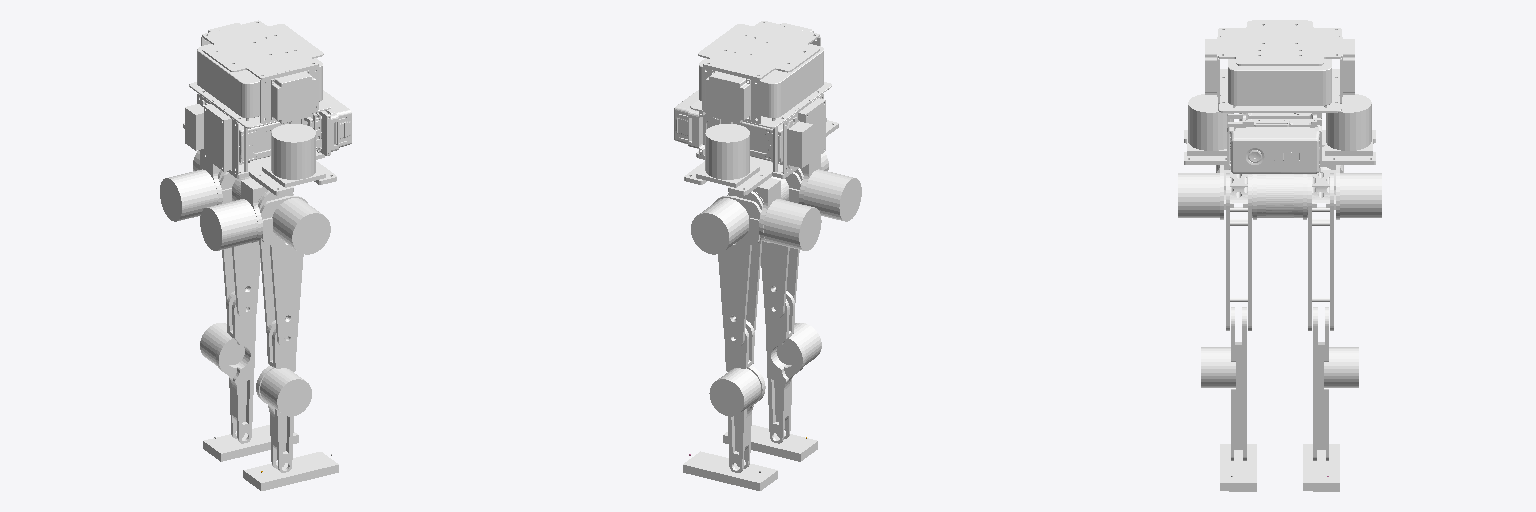
--- Render facts (derived) ---
3 views of the same robot in one strip: view 1: azimuth 30°, elevation 25°; view 2: azimuth 150°, elevation 25°; view 3: azimuth 270°, elevation 25° (orthographic).
Robot: hunter — 16 links, 15 joints (10 revolute, 5 fixed); root link base_link; default pose: every joint at zero.
Visible links, largest first — view 1: base_link, leg_l4_link, leg_r4_link, leg_r3_link, leg_r1_link, leg_r2_link, leg_l2_link, leg_l3_link, leg_r5_link, leg_l5_link; view 2: base_link, leg_r4_link, leg_l4_link, leg_l3_link, leg_l1_link, leg_l2_link, leg_r2_link, leg_r3_link, leg_l5_link, leg_r5_link; view 3: base_link, leg_r4_link, leg_l4_link, leg_l1_link, leg_r1_link, leg_l3_link, leg_r3_link, leg_r5_link, leg_l5_link.
Link boxes in pixels (x1,y1,x2,y2): base_link: (183, 20, 351, 195); leg_l4_link: (200, 291, 256, 443); leg_r4_link: (256, 320, 311, 472); leg_r3_link: (236, 176, 303, 348); leg_r1_link: (259, 192, 330, 254); leg_r2_link: (200, 178, 268, 250); leg_l2_link: (160, 152, 222, 221); leg_l3_link: (218, 162, 260, 318); leg_r5_link: (243, 452, 338, 490); leg_l5_link: (203, 425, 298, 461); base_link: (674, 21, 838, 195); leg_r4_link: (765, 291, 821, 443); leg_l4_link: (709, 320, 765, 472); leg_l3_link: (718, 177, 785, 348); leg_l1_link: (691, 192, 761, 254); leg_l2_link: (753, 178, 821, 250); leg_r2_link: (799, 155, 861, 221); leg_r3_link: (761, 162, 803, 318); leg_l5_link: (683, 451, 777, 490); leg_r5_link: (723, 425, 817, 461); base_link: (1184, 20, 1375, 173); leg_r4_link: (1201, 307, 1246, 460); leg_l4_link: (1313, 307, 1358, 460); leg_l1_link: (1303, 165, 1381, 219); leg_r1_link: (1178, 165, 1256, 219); leg_l3_link: (1266, 173, 1333, 330); leg_r3_link: (1226, 173, 1293, 330); leg_r5_link: (1220, 444, 1256, 491); leg_l5_link: (1303, 444, 1339, 491).
Bounding box of the posed robot: 0.1781 × 0.2222 × 0.51 m (x, y, z).
Meshes: 9 distinct files referenced, 9 mesh visuals loaded (9 binary STL).

robot.urdf — hunter:
<?xml version="1.0" encoding="utf-8"?>
<!--
This URDF was automatically created by SolidWorks to URDF Exporter! Originally created by Stephen Brawner ([email redacted])
Commit Version: 1.6.0-4-g7f85cfe  Build Version: 1.6.7995.38578
For more information, please see http://wiki.ros.org/sw_urdf_exporter
-->
<robot name="hunter">
	<mujoco>
    <compiler 
    meshdir="package://legged_hunter_description/meshes_pi/" 
    balanceinertia="true" 
    discardvisual="false" />
    </mujoco>


	<gazebo>
    <plugin name="gazebo_ros_control" filename="libhunter_bipedal_hw_sim.so">
      <robotNamespace>/</robotNamespace>
      <robotParam>legged_robot_description</robotParam>
      <robotSimType>legged_gazebo/LeggedHWSim</robotSimType>
    </plugin>
  	</gazebo>

  	<gazebo>
    <plugin filename="libgazebo_ros_p3d.so" name="p3d_base_controller">
      <alwaysOn>true</alwaysOn>
      <updateRate>500.0</updateRate>
      <bodyName>base_link</bodyName>
      <topicName>ground_truth/state</topicName>
      <gaussianNoise>0</gaussianNoise>
      <frameName>world</frameName>
      <xyzOffsets>0 0 0</xyzOffsets>
      <rpyOffsets>0 0 0</rpyOffsets>
    </plugin>
  	</gazebo>

	<link name="base_link">
		<inertial>
			<origin xyz="0.0019276 -4.6272E-05 0.062874" rpy="0 0 0" />
			<mass value="1.6042619" />
			<inertia ixx="0.0096904" ixy="-0.0001519" ixz="0.0004705" iyy="0.0098326" iyz="-0.0000665" izz="0.0043652" />
		</inertial>
		<visual>
			<origin xyz="0 0 0" rpy="0 0 0" />
			<geometry>
				<mesh filename="package://legged_hunter_description/meshes_pi/base_link.STL" />
			</geometry>
			<material name="">
				<color rgba="1 1 1 1" />
			</material>
		</visual>
		<collision>
			<!-- <origin xyz="0 0 0" rpy="0 0 0" />
			<geometry>
				<mesh filename="package://legged_hunter_description/meshes_pi/base_link.STL" />
			</geometry> -->
			<origin rpy="0 0 0" xyz="0 0 0.045" />
			<geometry>
				<box size="0.1 0.1 0.09" />
			</geometry>
		</collision>
	</link>

	  <joint name="imu_joint" type="fixed">
    <origin rpy="0. 0. 0." xyz="0. 0. 0"/>
    <parent link="base_link"/>
    <child link="imu_link"/>
  </joint>
  <!-- Imu link -->
  <link name="imu_link">
    <inertial>
      <mass value="0.01"/>
      <origin rpy="0 0 0" xyz="0 0 0"/>
      <inertia ixx="0.000001" ixy="0" ixz="0" iyy="0.000001" iyz="0" izz="0.000001"/>
    </inertial>
    <visual>
      <origin rpy="0 0 0" xyz="0 0 0"/>
      <geometry>
        <box size="0.015 0.015 0.004"/>
      </geometry>
    </visual>
    <material name="orange">
      <color rgba="255 108 10 255"/>
    </material>
  </link>
	  <gazebo reference="imu_joint">
    <disableFixedJointLumping>true</disableFixedJointLumping>
  </gazebo>




  <!-- ************************************************************ -->
  <!-- ************************ right Leg ************************** -->
  <!-- ************************************************************ -->

	<!-- yaw L2 -->
	<joint name="leg_r2_joint" type="revolute">
		<origin xyz="0 -0.045 0" rpy="3.1416 0 -1.5708" />
		<parent link="base_link" />
		<child link="leg_r2_link" />
		<axis xyz="0 0 -1" />
		<limit lower="-1.0" upper="1.0" effort="15" velocity="20" />
	</joint>
	<link name="leg_r2_link">
		<inertial>
			<origin xyz="6.4093E-09 0.056047 0.046574" rpy="0 0 0" />
			<mass value="0.34" />
			<inertia ixx="0.0003820" ixy="0.0000000" ixz="0.0000000"
									 iyy="0.0001983" iyz="0.0001824" 
									 				 izz="0.0001988" />
		</inertial>
		<visual>
			<origin xyz="0 0 0" rpy="0 0 0" />
			<geometry>
				<mesh filename="package://legged_hunter_description/meshes_pi/leg_r2_link.STL" />
			</geometry>
			<material name="">
				<color rgba="1 1 1 1" />
			</material>
		</visual>
		<collision>
			<!-- <origin xyz="0 0 0" rpy="0 0 0" />
			<geometry>
				<mesh filename="package://legged_hunter_description/meshes_pi/right_hip_yaw_link.STL" />
			</geometry> -->
			<origin xyz="0 0 0" rpy="0 0 0" />
			<geometry>
				<box size="0.0001 0.0001 0.0001" />
			</geometry>
		</collision>
	</link>
	

	<!-- roll L1 -->
	<joint name="leg_r1_joint" type="revolute">
		<origin xyz="0 0 0.054" rpy="1.5708 0 0" />
		<parent link="leg_r2_link" />
		<child link="leg_r1_link" />
		<axis xyz="0 0 1" />
		<limit lower="-1.0" upper="1.0" effort="15" velocity="20" />
	</joint>

	<link name="leg_r1_link">
		<inertial>
			<origin xyz="0.030907 0.00085876 -0.0037549" rpy="0 0 0" />
			<mass value="0.367" />
			<inertia ixx="0.0001795" ixy="0.0000000" ixz="0.0000000" 
									 iyy="0.0001796" iyz="-0.0000226" 
									                 izz="0.0000440" />
		</inertial>
		<visual>
			<origin xyz="0 0 0" rpy="0 0 0" />
			<geometry>
				<mesh filename="package://legged_hunter_description/meshes_pi/leg_r1_link.STL" />
			</geometry>
			<material name="">
				<color rgba="1 1 1 1" />
			</material>
		</visual>
		<collision>
			<!-- <origin xyz="0 0 0" rpy="0 0 0" />
			<geometry>
				<mesh filename="package://legged_hunter_description/meshes_pi/right_hip_roll_link.STL" />
			</geometry> -->
			<origin rpy="0 0 0" xyz="0 0 0" />
			<geometry>
				<box size="0.0001 0.0001 0.0001" />
			</geometry>
		</collision>
	</link>

	


	<!-- pitch l3 -->
	<joint name="leg_r3_joint" type="revolute">
		<origin xyz="0 0 0.002" rpy="-1.5708 0 1.5708" />
		<parent link="leg_r1_link" />
		<child link="leg_r3_link" />
		<axis xyz="0 0 1" />
		<limit lower="-1.15" upper="0.7854" effort="15" velocity="21"  />
	</joint>
	<link name="leg_r3_link">
		<inertial>
			<origin xyz="0.022326 1.3878E-17 0.023954" rpy="0 0 0" />
			<mass value="0.476" />
			<inertia ixx="0.0000351" ixy="0.0000000" ixz="-0.0000193" 
									  iyy="0.0023912" iyz="0.0000000" 
									  				   izz="0.0023887" />
		</inertial>
		<visual>
			<origin xyz="0 0 0" rpy="0 0 0" />
			<geometry>
				<mesh filename="package://legged_hunter_description/meshes_pi/leg_r3_link.STL" />
			</geometry>
			<material name="">
				<color rgba="1 1 1 1" />
			</material>
		</visual>
		<collision>
			<!-- <origin xyz="0 0 0" rpy="0 0 0" />
			<geometry>
				<mesh filename="package://legged_hunter_description/meshes_pi/right_calf_link.STL" />
			</geometry> -->
			<origin xyz="0.05 0 0.0" rpy="0 1.57 0" />
            <geometry>
                <box size="0.01 0.01 0.09" />
            </geometry>
		</collision>
	</link>

	
	<!-- knee l4 -->
	<joint name="leg_r4_joint" type="revolute">
		<origin xyz="0.15 0 0" rpy="-3.1416 0 0" />
		<parent link="leg_r3_link" />
		<child link="leg_r4_link" />
		<axis xyz="0 0 1" />
		<limit lower="-1.5" upper="0.0" effort="15" velocity="20" />
	</joint>

	<link name="leg_r4_link">
		<inertial>
			<origin xyz="0.063722 -0.0045962 0.012568" rpy="0 0 0" />
			<mass value="0.361" />
			<inertia ixx="0.0001823" ixy="-0.0001000" ixz="0.0002734" 
									  iyy="0.0019799" iyz="-0.0000342" 
									  				  izz="0.0018988" />
		</inertial>
		<visual>
			<origin xyz="0 0 0" rpy="0 0 0" />
			<geometry>
				<mesh filename="package://legged_hunter_description/meshes_pi/leg_r4_link.STL" />
			</geometry>
			<material name="">
				<color rgba="1 1 1 1" />
			</material>
		</visual>
		<collision>
			<!-- <origin xyz="0 0 0" rpy="0 0 0" />
			<geometry>
				<mesh filename="package://legged_hunter_description/meshes_pi/right_thigh_Link.STL" />
			</geometry> -->
			<origin xyz="0.05 0.0 -0.0" rpy="0 1.57 0" />
			<geometry>
				<box size="0.01 0.01 0.09" />
			</geometry>
		</collision>
	</link>

	
	<!-- ankle L5 -->
	<joint name="leg_r5_joint" type="revolute">
		<origin xyz="0.16 0 0" rpy="3.1416 0 1.5708" />
		<parent link="leg_r4_link" />
		<child link="leg_r5_link" />
		<axis xyz="0 0 1" />
		<limit lower="-0.75" upper="0.75" effort="15" velocity="20" />
	</joint>
	<link name="leg_r5_link">
		<inertial>
			<origin xyz="0.0018242 0.014051 -1.6651E-08" rpy="0 0 0" />
			<mass value="0.089" />
			<inertia ixx="0.0000189" ixy="0.0000034" ixz="0.0000000" 
									 iyy="0.0000420" iyz="0.0000000" 
									  				  izz="0.0000580" />
		</inertial>
		<visual>

			<origin xyz="0.012 0.012 0.0" rpy="1.57 0 0" />
			<!-- <origin xyz="0.0 0.0 -0.02" rpy="0 1.57079 0" /> -->
            <geometry>
                <box size="0.1 0.04 0.01" />
				
				<!-- <mesh filename="package://legged_hunter_description/meshes_pi/leg_r5_link.STL" /> -->
				<!-- <cylinder length="0.1" radius="0.005"/> -->
            </geometry>
			<material name="">
				<color rgba="1 1 1 1" />
			</material>
		</visual>
		<collision>
			<origin xyz="0.012 0.012 0.0" rpy="1.57 0 0" />
			<!-- <origin xyz="0.0 0.0 -0.02" rpy="0 1.57079 0" /> -->
            <geometry>
                <box size="0.1 0.04 0.01" />
				<!-- <cylinder length="0.1" radius="0.005"/> -->
            </geometry>
		</collision>
	</link>

    <!-- ************* fixed *************** -->

	<joint name="leg_r5_fixed_1" type="fixed">
    <origin xyz="0.06 0 -0.007" rpy="0 0 0" />
    <parent link="leg_r5_link" />
    <child link="leg_r_f1_link" />
  </joint>
  <link name="leg_r_f1_link">
    <inertial>
      <mass value="0.01" />
      <inertia ixx="0.000001" ixy="0" ixz="0" iyy="0.000001" iyz="0" izz="0.000001" />
    </inertial>
    <visual>
      <origin rpy="0 0 0" xyz="0 0 0"/>
      <geometry>
        <sphere radius="0.001"/>
      </geometry>
    </visual>
    <collision>
      <origin rpy="0 0 0" xyz="0 0 0"/>
      <geometry>
        <sphere radius="0.001"/>
      </geometry>
    </collision>
  </link>

  <joint name="leg_r5_fixed_2" type="fixed">
    <origin xyz="-0.030 0 -0.007" rpy="0 0 0" />
    <parent link="leg_r5_link" />
    <child link="leg_r_f2_link" />
  </joint>
  <link name="leg_r_f2_link">
    <inertial>
      <mass value="0.01" />
      <inertia ixx="0.000001" ixy="0" ixz="0" iyy="0.000001" iyz="0" izz="0.000001" />
    </inertial>
    <visual>
      <origin rpy="0 0 0" xyz="0 0 0"/>
      <geometry>
        <sphere radius="0.001"/>
      </geometry>
    </visual>
    <collision>
      <origin rpy="0 0 0" xyz="0 0 0"/>
      <geometry>
        <sphere radius="0.001"/>
      </geometry>
    </collision>
  </link>
    <!-- ************* gazebo *************** -->

  <gazebo reference="leg_r2_link">
    <mu1>0.6</mu1>
    <mu2>0.6</mu2>
    <self_collide>1</self_collide>
  </gazebo>
  <gazebo reference="leg_r1_link">
    <mu1>0.6</mu1>
    <mu2>0.6</mu2>
    <self_collide>1</self_collide>
  </gazebo>
  <gazebo reference="leg_r3_link">
    <mu1>0.6</mu1>
    <mu2>0.6</mu2>
    <self_collide>1</self_collide>
  </gazebo>
  <gazebo reference="leg_r4_link">
    <mu1>0.6</mu1>
    <mu2>0.6</mu2>
    <self_collide>1</self_collide>
  </gazebo>
  <gazebo reference="leg_r5_link">
    <mu1>1.5</mu1>
    <mu2>1.5</mu2>
    <self_collide>1</self_collide>
    <kp value="1000000.0"/>
    <kd value="100.0"/>
    <maxVel>1.0</maxVel>
    <minDepth>0.00</minDepth>
  </gazebo>
  <gazebo reference="leg_r_f1_link">
    <mu1>1.5</mu1>
    <mu2>1.5</mu2>
    <self_collide>1</self_collide>
    <kp value="1000000.0"/>
    <kd value="100.0"/>
    <maxVel>1.0</maxVel>
    <minDepth>0.00</minDepth>
  </gazebo>
  <gazebo reference="leg_r_f2_link">
    <mu1>1.5</mu1>
    <mu2>1.5</mu2>
    <self_collide>1</self_collide>
    <kp value="1000000.0"/>
    <kd value="100.0"/>
    <maxVel>1.0</maxVel>
    <minDepth>0.00</minDepth>
  </gazebo>

    <!-- ************* transmission *************** -->


  <transmission name="leg_r1_tran">
    <type>transmission_interface/SimpleTransmission</type>
    <joint name="leg_r1_joint">
      <hardwareInterface>hardware_interface/EffortJointInterface</hardwareInterface>
    </joint>
    <actuator name="leg_r1_motor">
      <hardwareInterface>hardware_interface/EffortJointInterface</hardwareInterface>
      <mechanicalReduction>1</mechanicalReduction>
      	  <maxVelocity>1.484</maxVelocity><!-- 85rpm -->
	<maxEffort>36.0</maxEffort><!-- 36Nm -->
    </actuator>
  </transmission>

  <transmission name="leg_r2_tran">
    <type>transmission_interface/SimpleTransmission</type>
    <joint name="leg_r2_joint">
      <hardwareInterface>hardware_interface/EffortJointInterface</hardwareInterface>
    </joint>
    <actuator name="leg_r2_motor">
      <hardwareInterface>hardware_interface/EffortJointInterface</hardwareInterface>
      <mechanicalReduction>1</mechanicalReduction>
      	  <maxVelocity>2.6545</maxVelocity><!-- 160rpm -->
	  <maxEffort>94.0</maxEffort><!-- 94Nm -->
    </actuator>
  </transmission>

  <transmission name="leg_r3_tran">
    <type>transmission_interface/SimpleTransmission</type>
    <joint name="leg_r3_joint">
      <hardwareInterface>hardware_interface/EffortJointInterface</hardwareInterface>
    </joint>
    <actuator name="leg_r3_motor">
      <hardwareInterface>hardware_interface/EffortJointInterface</hardwareInterface>
      <mechanicalReduction>1</mechanicalReduction>
      	  <maxVelocity>2.6545</maxVelocity><!-- 160rpm -->
	  <maxEffort>94.0</maxEffort><!-- 94Nm -->
    </actuator>
  </transmission>

  <transmission name="leg_r4_tran">
    <type>transmission_interface/SimpleTransmission</type>
    <joint name="leg_r4_joint">
      <hardwareInterface>hardware_interface/EffortJointInterface</hardwareInterface>
    </joint>
    <actuator name="leg_r4_motor">
      <hardwareInterface>hardware_interface/EffortJointInterface</hardwareInterface>
      <mechanicalReduction>1</mechanicalReduction>
      	  <maxVelocity>1.484</maxVelocity><!-- 85rpm -->
	<maxEffort>36.0</maxEffort><!-- 36Nm -->
    </actuator>
  </transmission>

  <transmission name="leg_r5_tran">
    <type>transmission_interface/SimpleTransmission</type>
    <joint name="leg_r5_joint">
      <hardwareInterface>hardware_interface/EffortJointInterface</hardwareInterface>
    </joint>
    <actuator name="leg_r5_motor">
      <hardwareInterface>hardware_interface/EffortJointInterface</hardwareInterface>
      <mechanicalReduction>1</mechanicalReduction>
    </actuator>
  </transmission>


 <!-- ************************************************************ -->
  <!-- ************************ Left Leg ************************** -->
  <!-- ************************************************************ -->

  <!-- ************* part 1 *************** -->

	<joint name="leg_l2_joint" type="revolute">
		<origin xyz="0 0.045 0" rpy="-3.1416 0 -3.1416" />
		<parent link="base_link" />
		<child link="leg_l2_link" />
		<axis xyz="0 0 1" />
		<limit lower="-1.0" upper="1.0" effort="15" velocity="20" />
	</joint>
  <link name="leg_l2_link">
		<inertial>
			<origin xyz="0.056047 -6.4093E-09 0.046574" rpy="0 0 0" />
			<mass value="0.34" />
			<inertia ixx="0.0001983" ixy="0.0000000" ixz="0.0001824" 
									 iyy="0.0003820"  iyz="0.0000000" 
									 				   izz="0.0001988" />
		</inertial>
		<visual>
			<origin xyz="0 0 0" rpy="0 0 0" />
			<geometry>
				<mesh filename="package://legged_hunter_description/meshes_pi/leg_l2_link.STL" />
			</geometry>
			<material name="">
				<color rgba="1 1 1 1" />
			</material>
		</visual>
		<collision>
			<!-- <origin xyz="0 0 0" rpy="0 0 0" />
			<geometry>
				<mesh filename="package://legged_hunter_description/meshes_pi/leg_l2_link.STL" />
			</geometry> -->
			<origin xyz="0 0 0" rpy="0 0 0" />
			<geometry>
				<box size="0.0001 0.0001 0.0001" />
			</geometry>
		</collision>
	</link>

  <!-- ************* part 2 *************** -->

  <joint name="leg_l1_joint" type="revolute">
		<origin xyz="0 0 0.054" rpy="-1.5708 0 1.5708" />
		<parent link="leg_l2_link" />
		<child link="leg_l1_link" />
		<axis xyz="0 0 1" />
		<limit lower="-1.0" upper="1.0" effort="15" velocity="20" />
	</joint>

	<link name="leg_l1_link">
		<inertial>
			<origin xyz="0.030907 -0.00085876 -0.0037549" rpy="0 0 0" />
			<mass value="0.12545" />
			<inertia ixx="0.0001795" ixy="0.0000000" ixz="0.0000000" 
			                         iyy="0.0001796" iyz="0.0000226" 
									                 izz="0.0000440" />
		</inertial>
		<visual>
			<origin xyz="0 0 0" rpy="0 0 0" />
			<geometry>
				<mesh filename="package://legged_hunter_description/meshes_pi/leg_l1_link.STL" />
			</geometry>
			<material name="">
				<color rgba="1 1 1 1" />
			</material>
		</visual>
		<collision>
			<!-- <origin xyz="0 0 0" rpy="0 0 0" />
			<geometry>
				<mesh filename="package://legged_hunter_description/meshes_pi/leg_l1_link.STL" />
			</geometry> -->
			<origin rpy="0 0 0" xyz="0 0 0" />
			<geometry>
				<box size="0.0001 0.0001 0.0001" />
			</geometry>
		</collision>
	</link>

  <!-- ************* part 3 *************** -->

	<joint name="leg_l3_joint" type="revolute">
		<origin xyz="0 0 0.002" rpy="1.5708 0 -1.5708" />
		<parent link="leg_l1_link" />
		<child link="leg_l3_link" />
		<axis xyz="0 0 1" />
		<limit lower="-0.7854" upper="1.15" effort="15" velocity="20" />
	</joint>

	<link name="leg_l3_link">
		<inertial>
			<origin xyz="0.022326 0 0.023954" rpy="0 0 0" />
			<mass value="0.476" />
			<inertia ixx="0.0000351" ixy="0.0000000" ixz="-0.0000193" 
									 iyy="0.0023912" iyz="0.0000000" 
									 				 izz="0.0023887" />
		</inertial>
		<visual>
			<origin xyz="0 0 0" rpy="0 0 0" />
			<geometry>
				<mesh filename="package://legged_hunter_description/meshes_pi/leg_l3_link.STL" />
			</geometry>
			<material name="">
				<color rgba="1 1 1 1" />
			</material>
		</visual>
		<collision>
			<!-- <origin xyz="0 0 0" rpy="0 0 0" />
			<geometry>
				<mesh filename="package://legged_hunter_description/meshes_pi/leg_l3_link.STL" />
			</geometry> -->
			<origin xyz="0.05 0 0.0" rpy="0 1.57 0" />
			<geometry>
				<box size="0.01 0.01 0.09" />
			</geometry>
		</collision>
	</link>

   <!-- ************* part 4 *************** -->
  <joint name="leg_l4_joint" type="revolute">
		<origin xyz="0.15 0 0" rpy="3.1416 0 0" />
		<parent link="leg_l3_link" />
		<child link="leg_l4_link" />
		<axis xyz="0 0 1" />
		<limit lower="0" upper="1.5" effort="15" velocity="20" />
	</joint>
	<link name="leg_l4_link">
		<inertial>
			<origin xyz="0.063722 0.0045962 0.012568" rpy="0 0 0" />
			<mass value="0.361" />
			<inertia ixx="0.0001823" ixy="0.0001000" ixz="0.0002734" 
									 iyy="0.0019799" iyz="0.0000342" 
									 				 izz="0.0018988" />
		</inertial>
		<visual>
			<origin xyz="0 0 0" rpy="0 0 0" />
			<geometry>
				<mesh filename="package://legged_hunter_description/meshes_pi/leg_l4_link.STL" />
			</geometry>
			<material name="">
				<color rgba="1 1 1 1" />
			</material>
		</visual>
		<collision>
			<origin xyz="0.05 0.0 0.0" rpy="0 1.57 0" />
			<geometry>
				<box size="0.01 0.01 0.09" />
			</geometry>
		</collision>
	</link>
	
    <!-- ************* part 5 *************** -->
  <joint name="leg_l5_joint" type="revolute">
		<origin xyz="0.16 0 0" rpy="3.1416 0 -1.5708" />
		<parent link="leg_l4_link" />
		<child link="leg_l5_link" />
		<axis xyz="0 0 1" />
		<limit lower="-0.75" upper="0.75" effort="15" velocity="20" />
	</joint>

	<link name="leg_l5_link">
		<inertial>
			<origin xyz="0.0018242 -0.014051 1.6804E-08" rpy="1.57 0 0" />
			<mass value="0.089" />
			<inertia ixx="0.0000189" ixy="-0.0000034" ixz="0.0000000" 
								     iyy="0.0000420" iyz="0.0000000" 
									 				  izz="0.0000580" />
		</inertial>
		<visual>
			<origin xyz="0.012 -0.012 0.0" rpy="1.57 0 0" />
			<geometry>
				<box size="0.1 0.04 0.01" />
			</geometry>
			<material name="">
				<color rgba="1 1 1 1" />
			</material>
		</visual>
		<collision>
			<origin xyz="0.012 -0.012 0.0" rpy="1.57 0.0 0" />
			<geometry>
				<box size="0.1 0.04 0.01" />
				<!-- <cylinder length="0.1" radius="0.005"/> -->
			</geometry>
		</collision>
	</link>

    <!-- ************* fixed *************** -->

  <joint name="leg_l5_fixed_1" type="fixed">
    <origin xyz="0.06 0 -0.007" rpy="0 0 0" />
    <parent link="leg_l5_link" />
    <child link="leg_l_f1_link" />
  </joint>
  <link name="leg_l_f1_link">
    <inertial>
      <mass value="0.01" />
      <inertia ixx="0.000001" ixy="0" ixz="0" iyy="0.000001" iyz="0" izz="0.000001" />
    </inertial>
    <visual>
      <origin rpy="0 0 0" xyz="0 0 0"/>
      <geometry>
        <sphere radius="0.001"/>
      </geometry>
    </visual>
    <collision>
      <origin rpy="0 0 0" xyz="0 0 0"/>
      <geometry>
        <sphere radius="0.001"/>
      </geometry>
    </collision>
  </link>

  <joint name="leg_l5_fixed_2" type="fixed">
    <origin xyz="-0.030 0 -0.007" rpy="0 0 0" />
    <parent link="leg_l5_link" />
    <child link="leg_l_f2_link" />
  </joint>
  <link name="leg_l_f2_link">
    <inertial>
      <mass value="0.01" />
      <inertia ixx="0.000001" ixy="0" ixz="0" iyy="0.000001" iyz="0" izz="0.000001" />
    </inertial>
    <visual>
      <origin rpy="0 0 0" xyz="0 0 0"/>
      <geometry>
        <sphere radius="0.001"/>
      </geometry>
    </visual>
    <collision>
      <origin rpy="0 0 0" xyz="-0 0 0"/>
      <geometry>
        <sphere radius="0.001"/>
      </geometry>
    </collision>
  </link>

    <!-- ************* gazebo *************** -->

  <gazebo reference="leg_l1_link">
    <mu1>0.6</mu1>
    <mu2>0.6</mu2>
    <self_collide>1</self_collide>
  </gazebo>
  <gazebo reference="leg_l2_link">
    <mu1>0.6</mu1>
    <mu2>0.6</mu2>
    <self_collide>1</self_collide>
  </gazebo>
  <gazebo reference="leg_l3_link">
    <mu1>0.6</mu1>
    <mu2>0.6</mu2>
    <self_collide>1</self_collide>
  </gazebo>
  <gazebo reference="leg_l4_link">
    <mu1>0.6</mu1>
    <mu2>0.6</mu2>
    <self_collide>1</self_collide>
  </gazebo>
  <gazebo reference="leg_l5_link">
    <mu1>1.5</mu1>
    <mu2>1.5</mu2>
    <self_collide>1</self_collide>
    <kp value="1000000.0"/>
    <kd value="100.0"/>
    <maxVel>1.0</maxVel>
    <minDepth>0.00</minDepth>
  </gazebo>
  <gazebo reference="leg_l_f1_link">
    <mu1>1.5</mu1>
    <mu2>1.5</mu2>
    <self_collide>1</self_collide>
    <kp value="1000000.0"/>
    <kd value="100.0"/>
    <maxVel>1.0</maxVel>
    <minDepth>0.00</minDepth>
  </gazebo>
  <gazebo reference="leg_l_f2_link">
    <mu1>1.5</mu1>
    <mu2>1.5</mu2>
    <self_collide>1</self_collide>
    <kp value="1000000.0"/>
    <kd value="100.0"/>
    <maxVel>1.0</maxVel>
    <minDepth>0.00</minDepth>
  </gazebo>

    <!-- ************* transmission *************** -->

  <transmission name="leg_l1_tran">
    <type>transmission_interface/SimpleTransmission</type>
    <joint name="leg_l1_joint">
      <hardwareInterface>hardware_interface/EffortJointInterface</hardwareInterface>
    </joint>
    <actuator name="leg_l1_motor">
      <hardwareInterface>hardware_interface/EffortJointInterface</hardwareInterface>
      <mechanicalReduction>1</mechanicalReduction>
    <maxVelocity>1.484</maxVelocity><!-- 85rpm -->
	  <maxEffort>36.0</maxEffort><!-- 36Nm -->
    </actuator>
  </transmission>

  <transmission name="leg_l2_tran">
    <type>transmission_interface/SimpleTransmission</type>
    <joint name="leg_l2_joint">
      <hardwareInterface>hardware_interface/EffortJointInterface</hardwareInterface>
    </joint>
    <actuator name="leg_l2_motor">
      <hardwareInterface>hardware_interface/EffortJointInterface</hardwareInterface>
      <mechanicalReduction>1</mechanicalReduction>
    <maxVelocity>2.6545</maxVelocity><!-- 160rpm -->
	  <maxEffort>94.0</maxEffort><!-- 94Nm -->
    </actuator>
  </transmission>

  <transmission name="leg_l3_tran">
    <type>transmission_interface/SimpleTransmission</type>
    <joint name="leg_l3_joint">
      <hardwareInterface>hardware_interface/EffortJointInterface</hardwareInterface>
    </joint>
    <actuator name="leg_l3_motor">
      <hardwareInterface>hardware_interface/EffortJointInterface</hardwareInterface>
      <mechanicalReduction>1</mechanicalReduction>
    <maxVelocity>2.6545</maxVelocity><!-- 160rpm -->
	  <maxEffort>94.0</maxEffort><!-- 94Nm -->
    </actuator>
  </transmission>

  <transmission name="leg_l4_tran">
    <type>transmission_interface/SimpleTransmission</type>
    <joint name="leg_l4_joint">
      <hardwareInterface>hardware_interface/EffortJointInterface</hardwareInterface>
    </joint>
    <actuator name="leg_l4_motor">
      <hardwareInterface>hardware_interface/EffortJointInterface</hardwareInterface>
      <mechanicalReduction>1</mechanicalReduction>
    <maxVelocity>1.484</maxVelocity><!-- 85rpm -->
	<maxEffort>36.0</maxEffort><!-- 36Nm -->
    </actuator>
  </transmission>

  <transmission name="leg_l5_tran">
    <type>transmission_interface/SimpleTransmission</type>
    <joint name="leg_l5_joint">
      <hardwareInterface>hardware_interface/EffortJointInterface</hardwareInterface>
    </joint>
    <actuator name="leg_l5_motor">
      <hardwareInterface>hardware_interface/EffortJointInterface</hardwareInterface>
      <mechanicalReduction>1</mechanicalReduction>
    </actuator>
  </transmission>
</robot>
